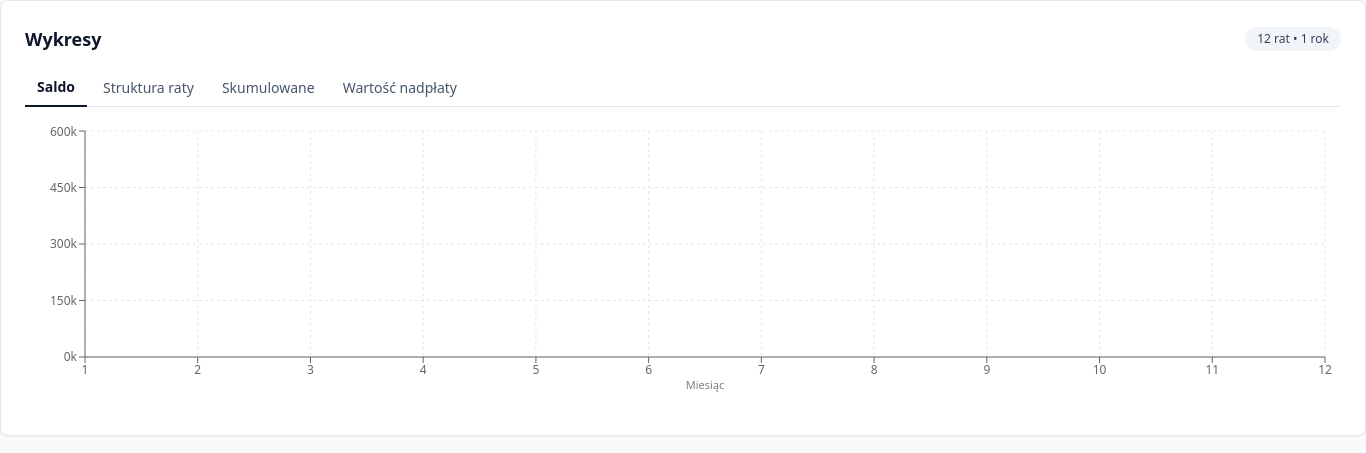
Test case: Charts › switches to breakdown chart on tab click
Click the tab "Struktura raty" at (148, 88), box [91,69,206,106]
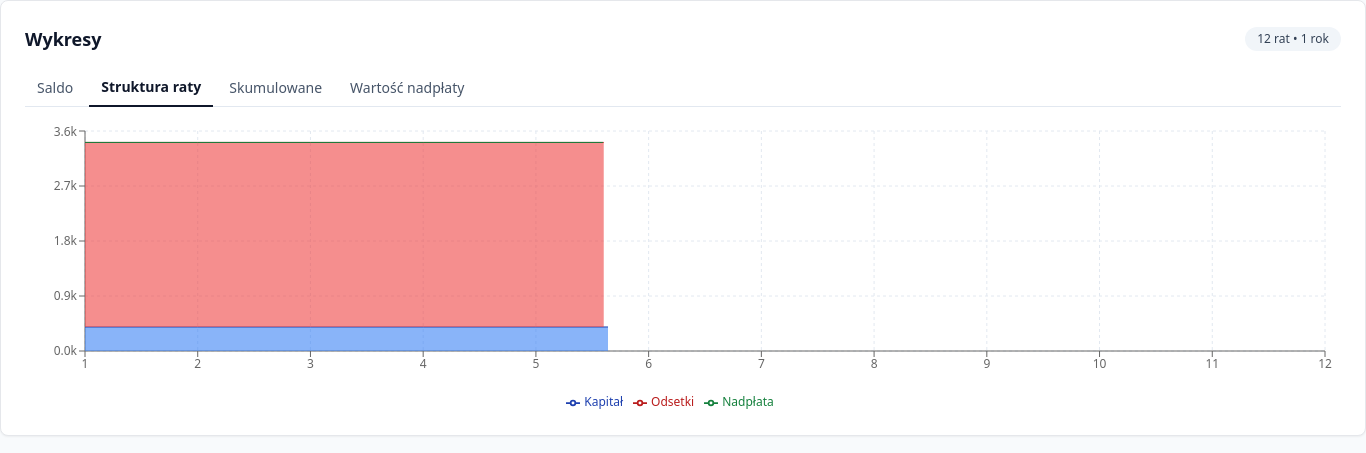
Check: the element with test id "breakdown-chart" is shown
